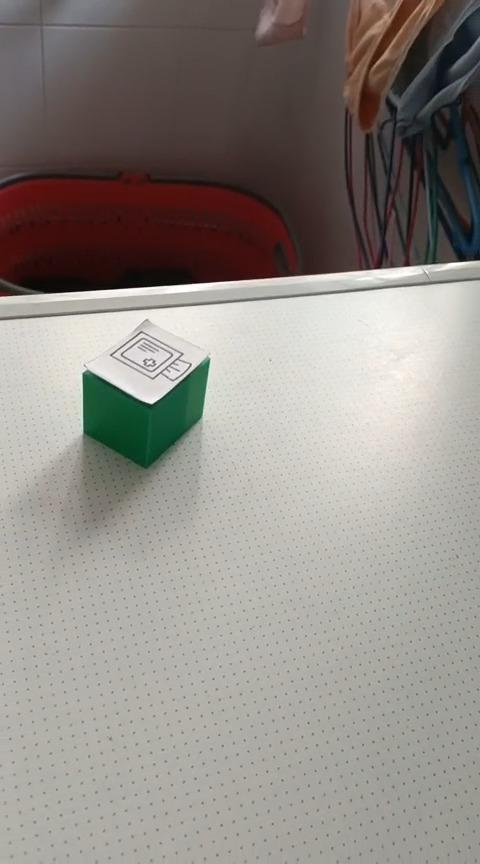Gauze: (80, 316, 211, 469)
